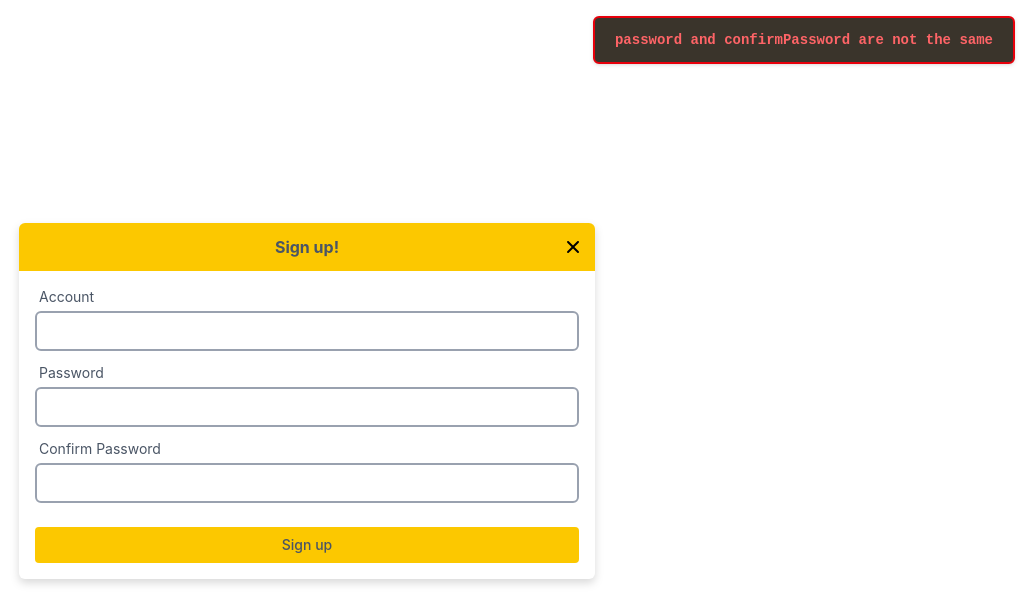
Test: AppHeader/SignUpPopup component › signup success
Step 1. Type "FAKE_ACCOUNT" into the field labelled "Account" → [307, 331], box top-left (35, 311), bottom-right (579, 351)
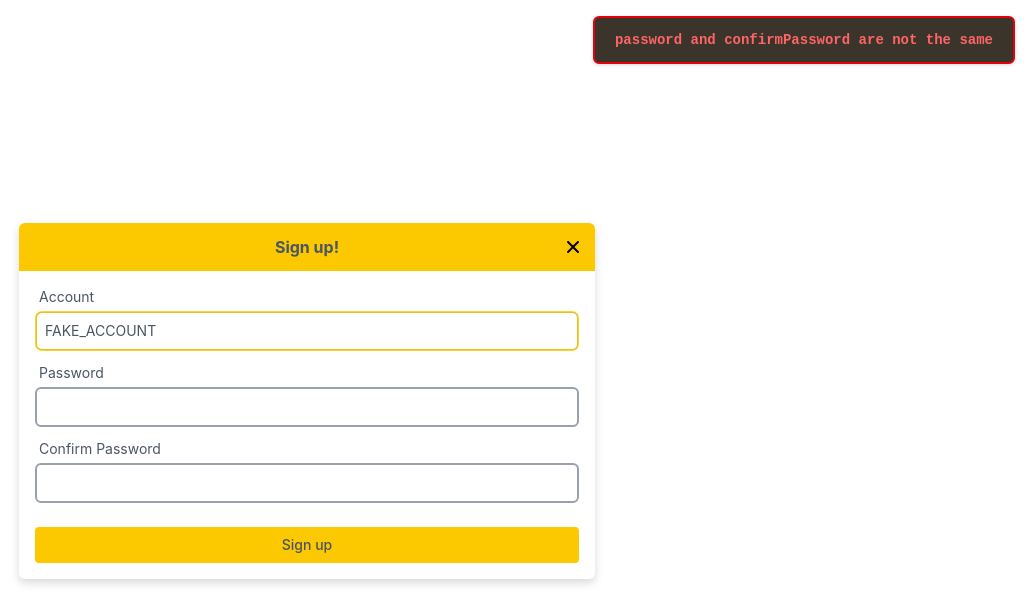
Step 2. Type "FAKE_PASSWORD" into the password field labelled "Password" → [307, 407], box top-left (35, 387), bottom-right (579, 427)
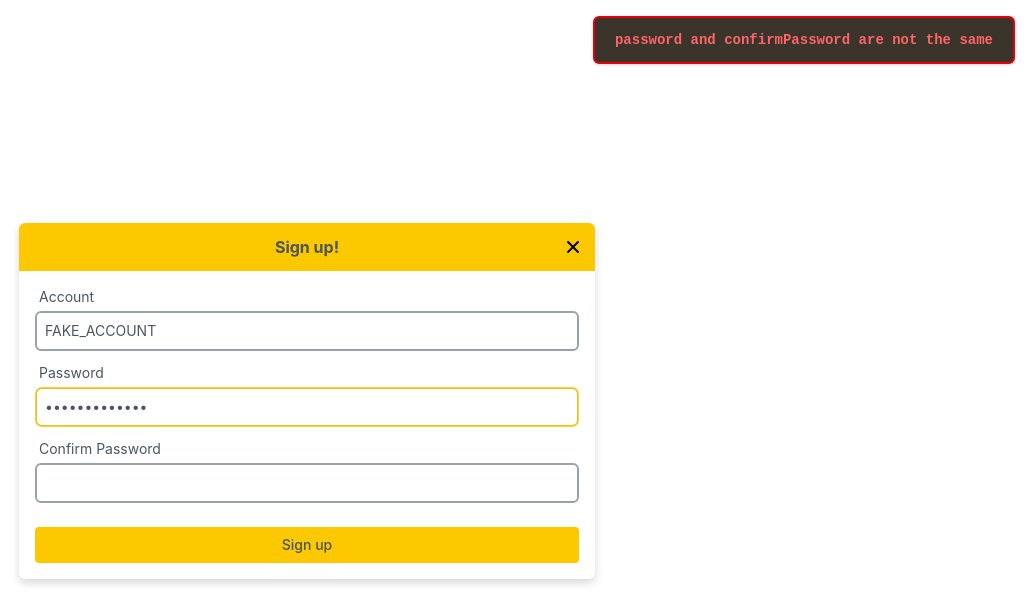
Step 3. Type "FAKE_PASSWORD" into the password field labelled "Confirm Password" → [307, 483], box top-left (35, 463), bottom-right (579, 503)
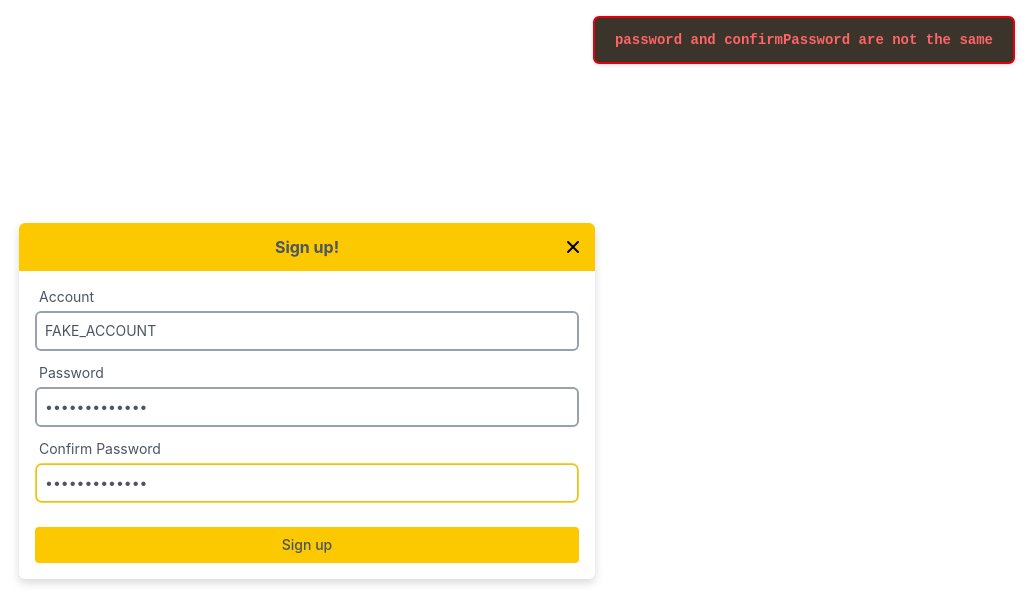
Step 4. Click the button "Sign up" → [307, 545], box top-left (35, 527), bottom-right (579, 563)
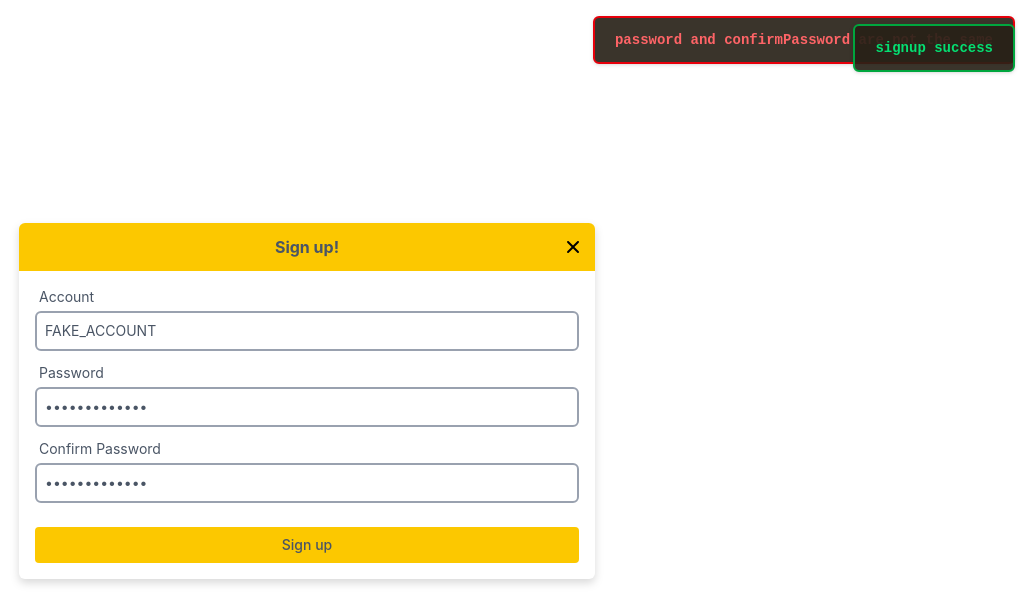
Now the text "signup success" is shown, box top-left (875, 38), bottom-right (993, 58)
